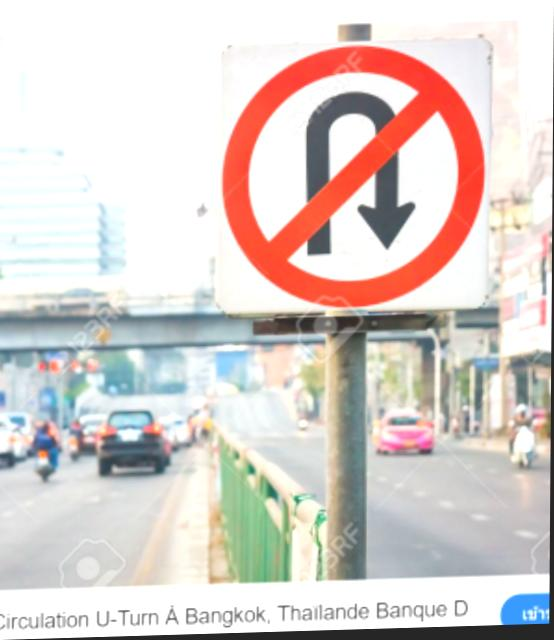not_u_turn_right: (203, 32, 514, 344)
